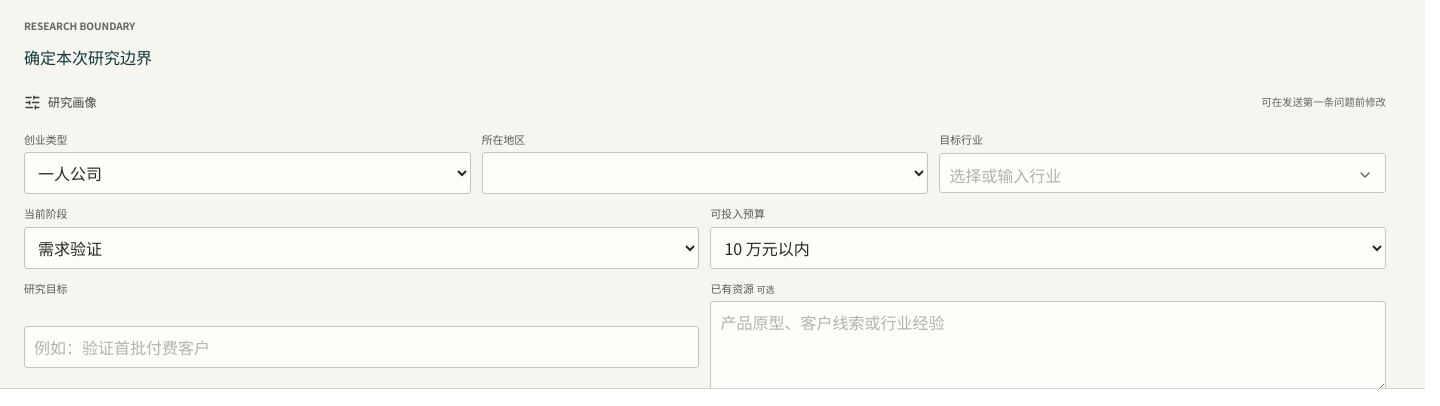
AssistantResearchProfile industry combobox › selects a standard industry with combobox keyboard semantics
Click the dropdown labelled "目标行业": coordinates (1143, 175) [940,154,1345,196]
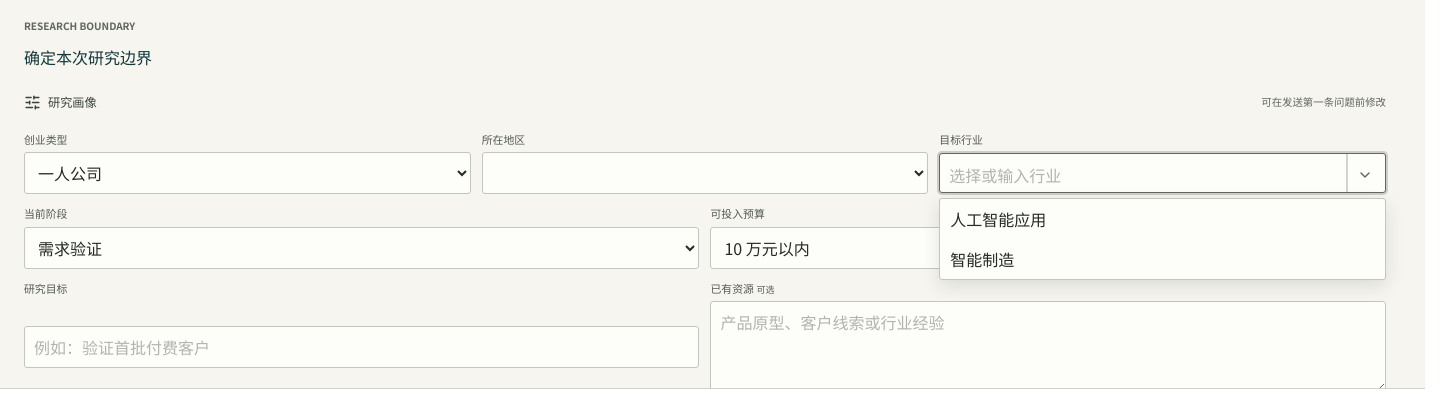
Expected: the list is shown, [939,198,1386,280]
In the dropdown labelled "目标行业 人工智能应用 智能制造": coordinates (1143, 175) [940,154,1345,196], type "人工"
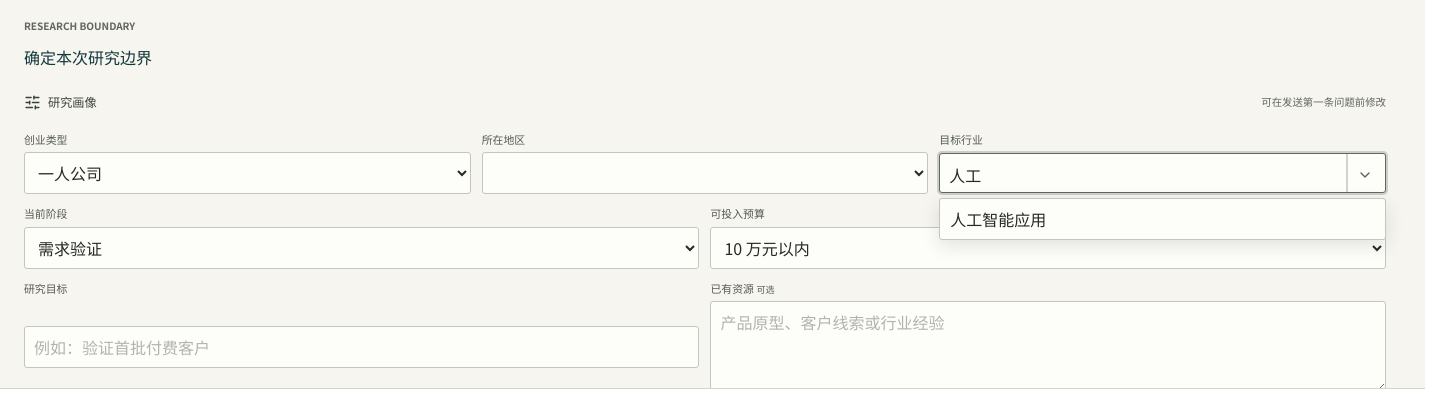
Press ArrowDown in the dropdown labelled "目标行业 人工智能应用", box [940,154,1345,196]
Press Enter in the dropdown labelled "目标行业 人工智能应用", box [940,154,1345,196]
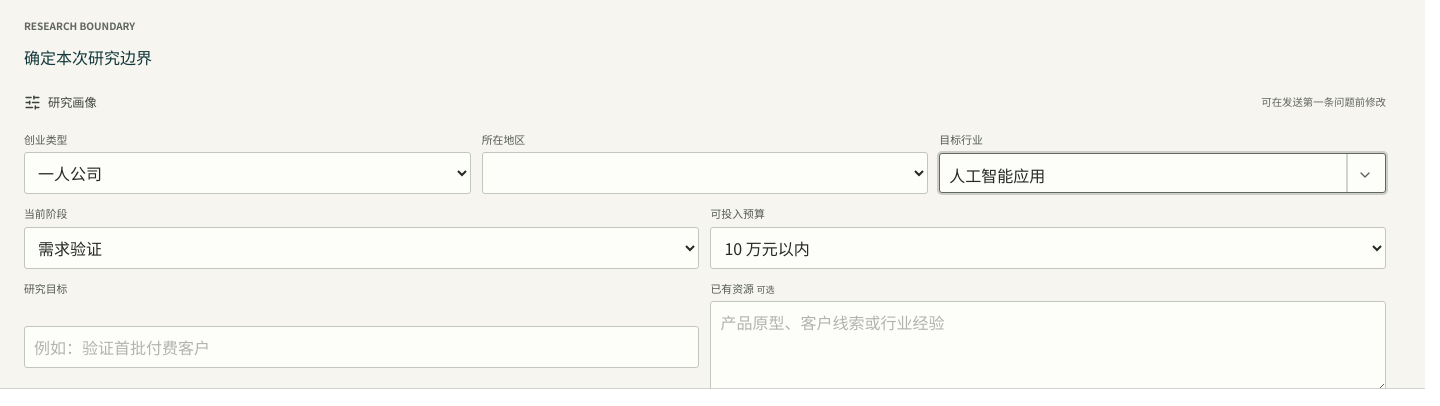
Expected: the dropdown labelled "目标行业" is collapsed, [940,154,1345,193]
